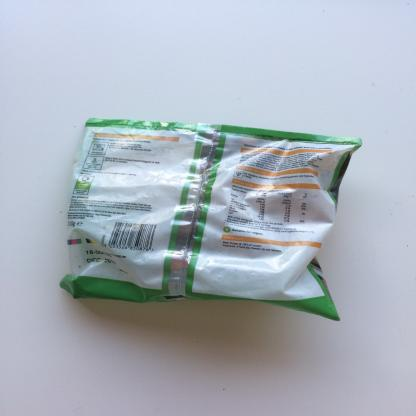trash: (52, 108, 370, 337)
